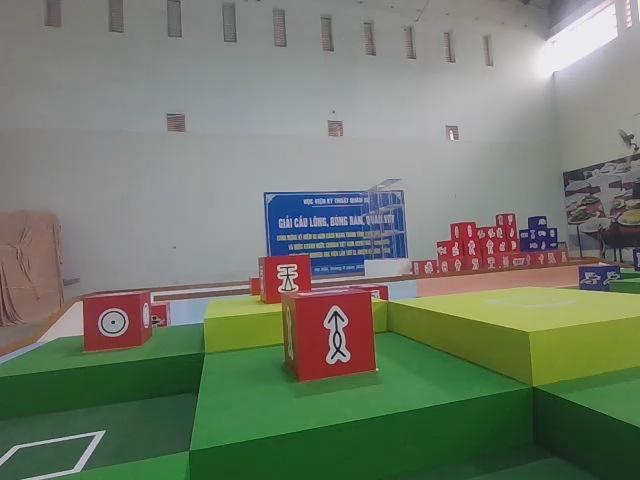R2 Real: (280, 289, 378, 384), (78, 289, 154, 351), (256, 253, 314, 306)
